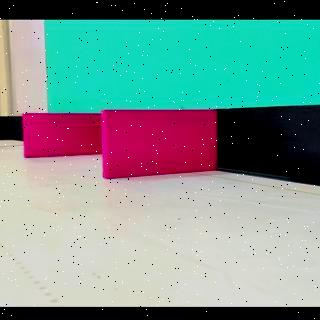xparking: (106, 112, 214, 170), (24, 116, 98, 152)
